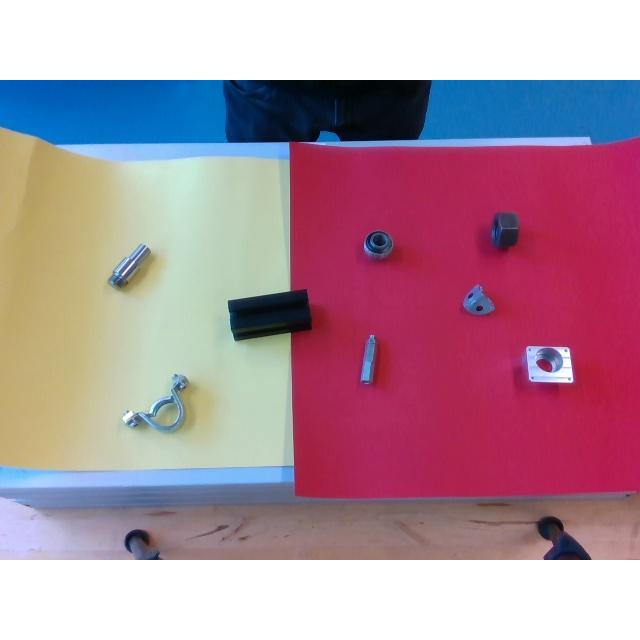Axis2: (108, 243, 148, 287)
Bearing2: (363, 230, 392, 254)
Housing: (123, 378, 187, 430)
M30: (490, 211, 518, 249)
S40_40_B: (228, 289, 312, 339)
